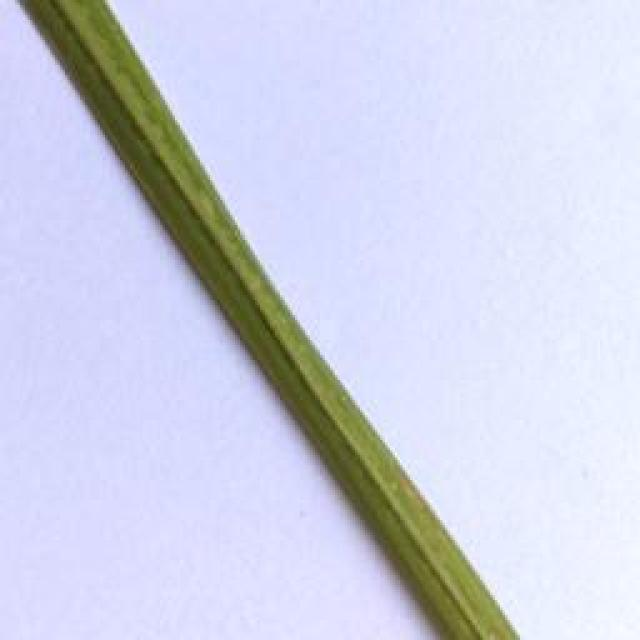Healthy-Plant: (20, 0, 517, 640)
